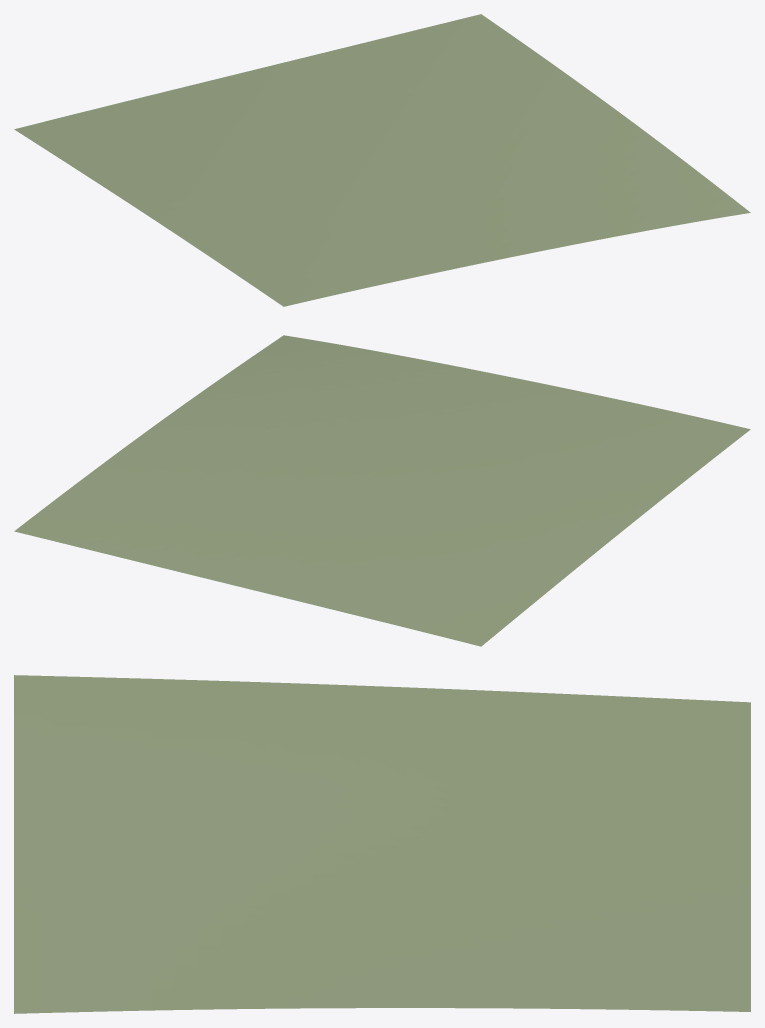
File: expanse-7-21.glb
3 renders of one model, top to bottom at view 1: azimuth 30°, elevation 25°; view 2: azimuth 150°, elevation 25°; view 3: azimuth 270°, elevation 25°, orthographic. The views are drawn at different scales.
Visible parts, largest first — view 1: expanse-7-21; view 2: expanse-7-21; view 3: expanse-7-21.
Part boxes in pixels (x1,y1,x2,y2): expanse-7-21: (14,14,750,306); expanse-7-21: (14,335,750,646); expanse-7-21: (14,675,750,1013).
Bounding box in the file's own units: 256 × 10.44 × 256.
